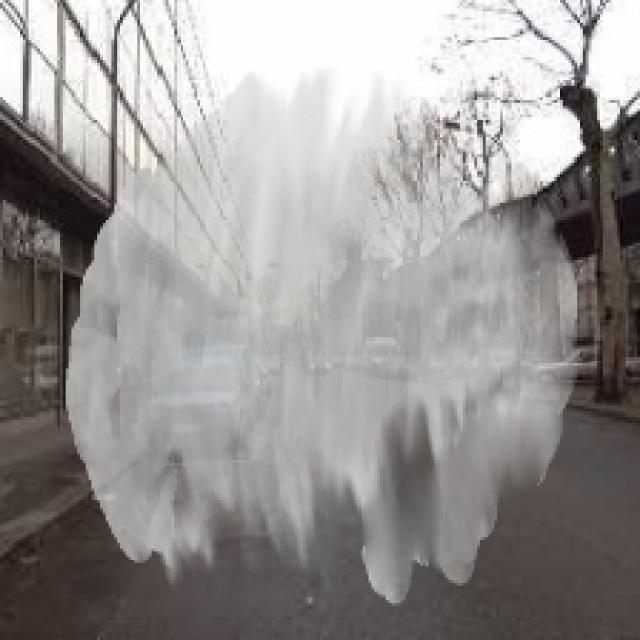smoke: (66, 69, 580, 606)
